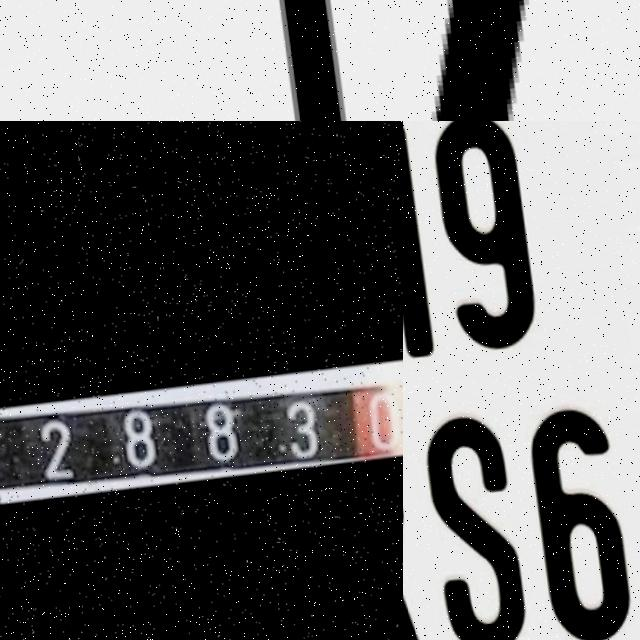0: (356, 386, 399, 452)
2: (26, 413, 70, 480)
3: (276, 396, 315, 462)
6: (518, 402, 635, 640)
7: (403, 0, 585, 121)
8: (110, 404, 155, 471), (192, 398, 235, 465)
9: (424, 121, 536, 358)
I: (276, 0, 342, 121)
M: (403, 122, 436, 371)
S: (411, 411, 524, 640)
